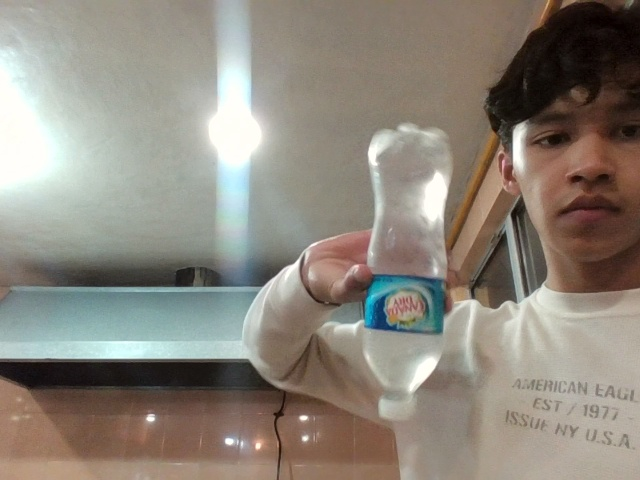botella: (340, 80, 490, 436)
